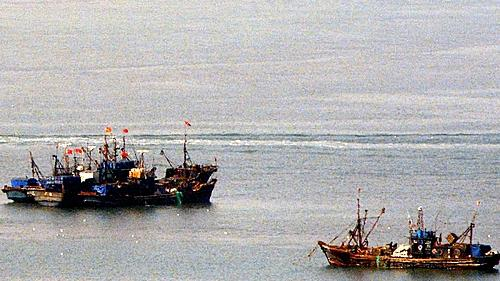Ship: (1, 117, 224, 214), (305, 181, 500, 274)
